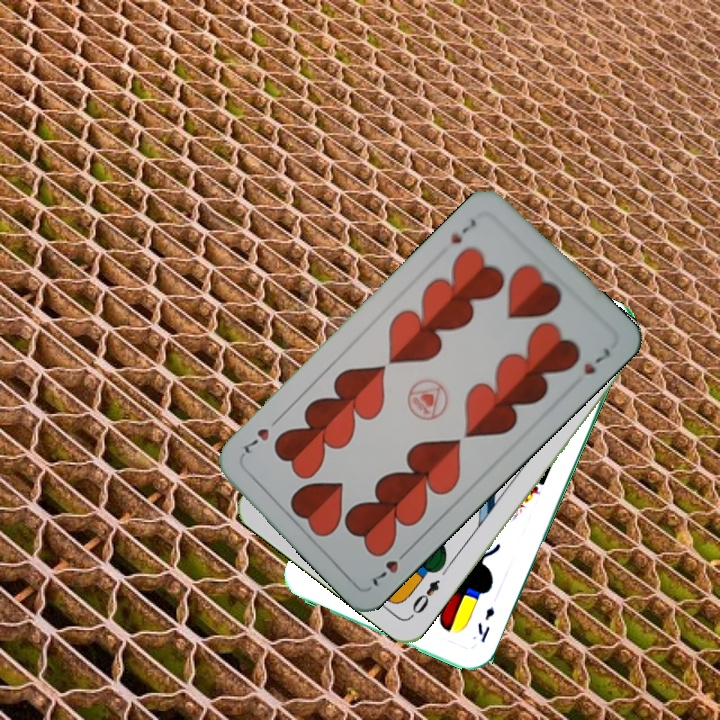EK: (473, 602, 498, 645)
EO: (408, 575, 443, 617)
H7: (368, 544, 413, 590), (446, 214, 479, 247)
